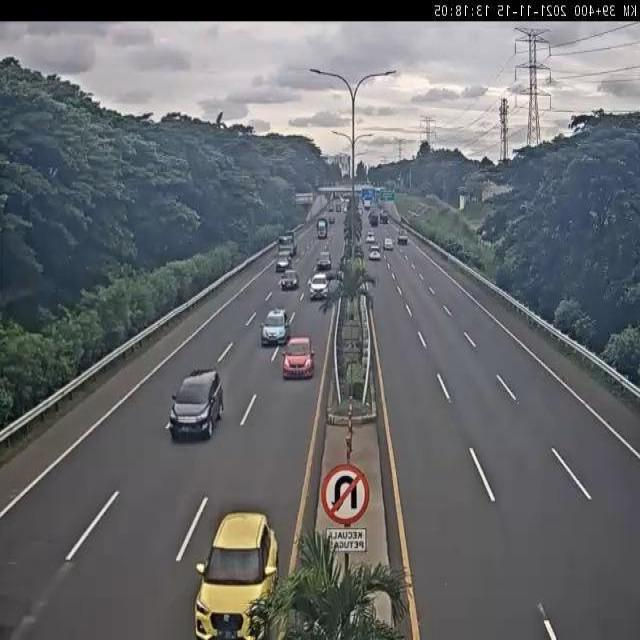Car: (193, 512, 280, 640), (169, 368, 225, 440), (280, 338, 316, 382), (260, 308, 292, 346), (309, 274, 329, 300), (281, 269, 298, 290), (368, 243, 382, 262), (318, 252, 330, 271)
Truck: (278, 230, 299, 258), (316, 218, 327, 240)
